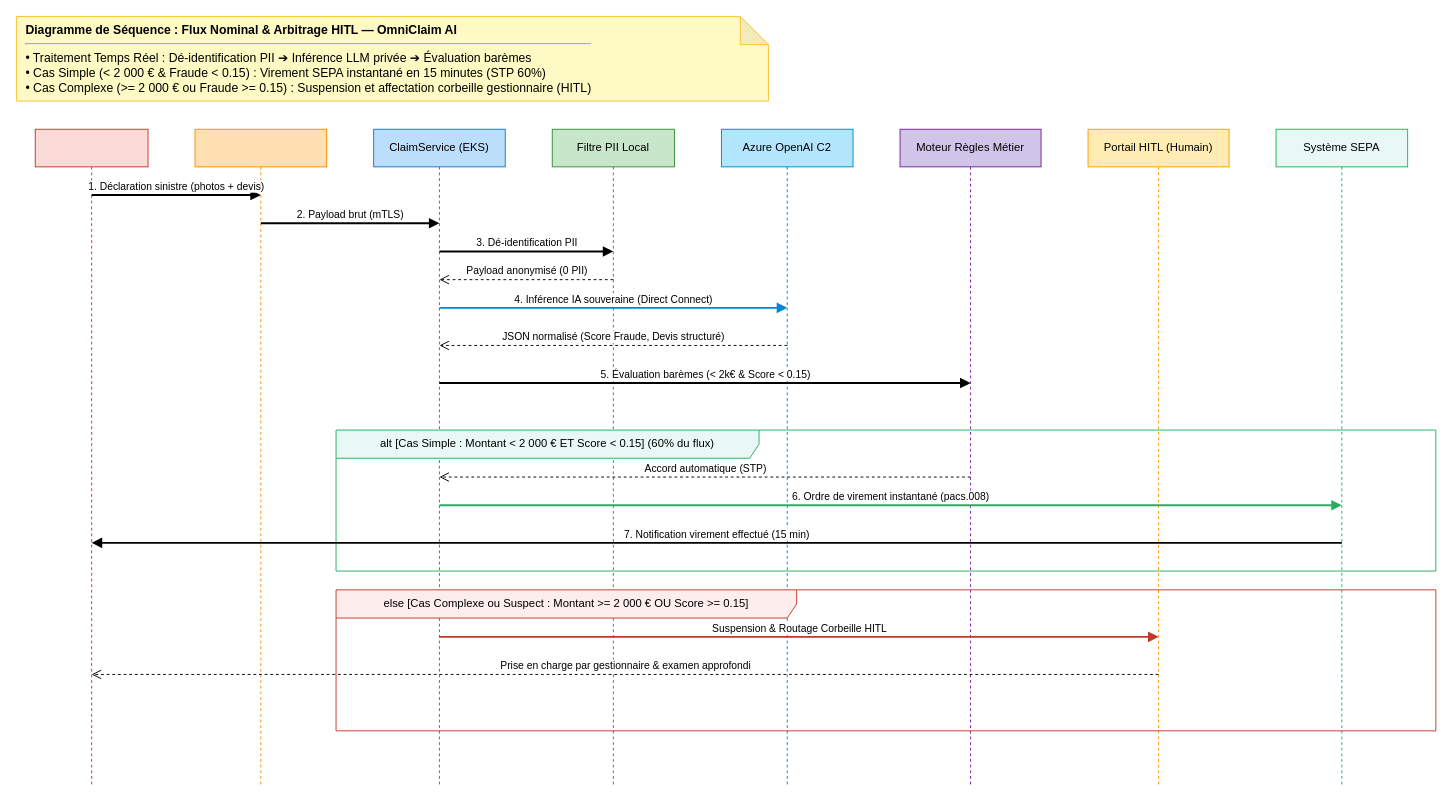
Image size: 1452x804. Some labels were removed from this diagram. Here are the shapes that lost their labels. From the top down, the box of each, then its label:
(34, 128, 148, 787): Assuré (Mobile)
(194, 128, 327, 787): API Gateway (AWS)
